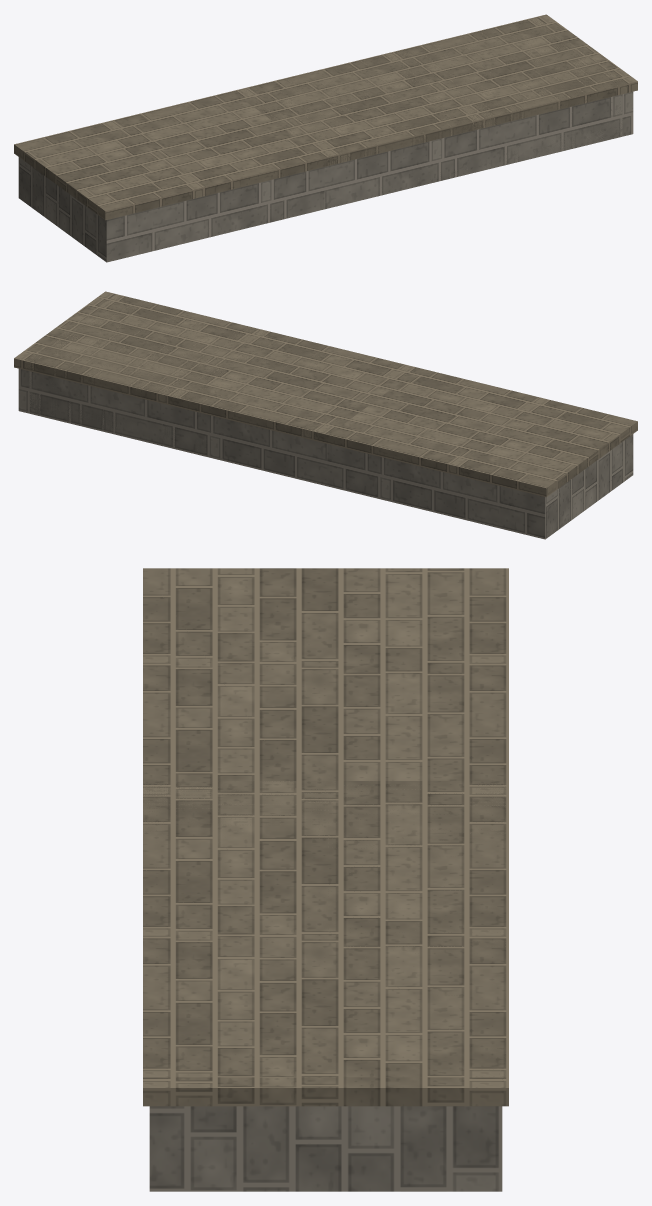
Rendered from SM_Art_DriftwoodCamp.gltf.
3 views of the same model, one above another, from view 1: azimuth 30°, elevation 25°; view 2: azimuth 150°, elevation 25°; view 3: azimuth 270°, elevation 25° (orthographic). The views are drawn at different scales.
Parts seen in each view (by area): view 1: SM_Art_DriftwoodCamp; view 2: SM_Art_DriftwoodCamp; view 3: SM_Art_DriftwoodCamp.
Part boxes in pixels (box(x1,y1,x2,y2)): SM_Art_DriftwoodCamp: box(14, 14, 637, 262); SM_Art_DriftwoodCamp: box(14, 291, 637, 539); SM_Art_DriftwoodCamp: box(143, 568, 508, 1191).
Bounding box in the file's own units: 7.33 × 0.7 × 2.18.
Materials: 2 (2 with a texture image).
